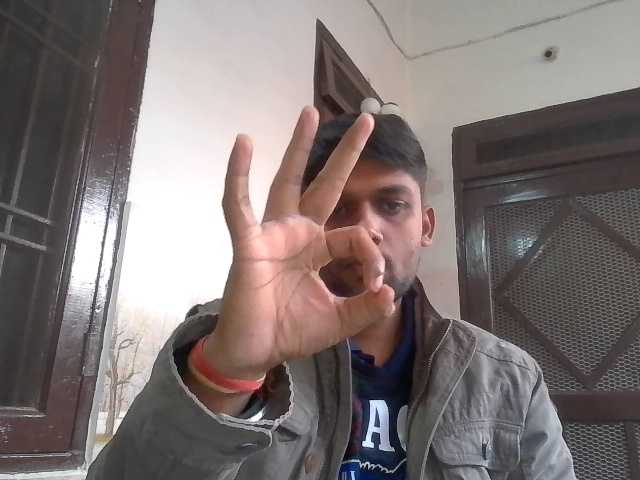Good: (208, 105, 401, 367)
